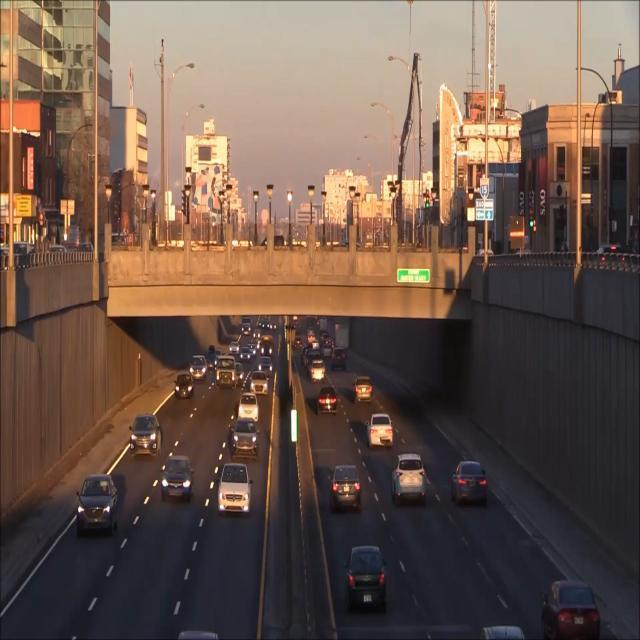Car: (540, 579, 601, 639), (344, 545, 387, 611), (75, 473, 119, 535), (390, 452, 428, 504), (217, 463, 252, 514), (449, 460, 487, 505), (159, 454, 194, 501), (329, 464, 361, 511), (128, 413, 161, 455), (365, 413, 393, 448)
